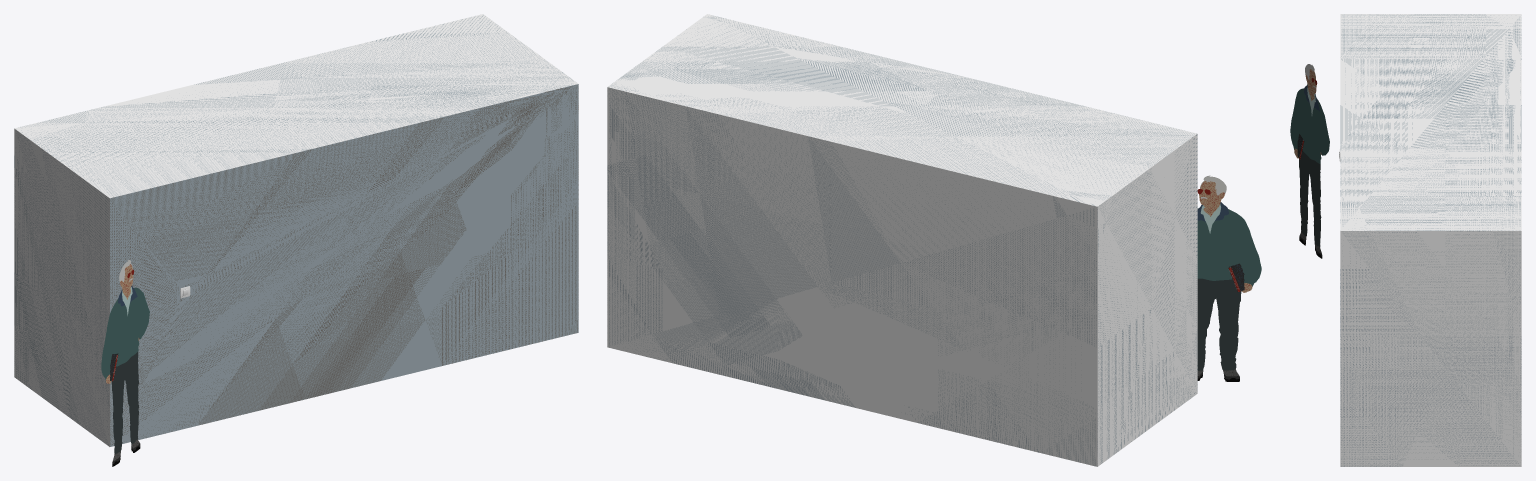
Rendered from switchImport.fbx.
3 renders of one model, left to right at view 1: azimuth 30°, elevation 25°; view 2: azimuth 150°, elevation 25°; view 3: azimuth 270°, elevation 25°, orthographic. The views are drawn at different scales.
Parts seen in each view (by area): view 1: Model, Steve1; view 2: Model, Steve1; view 3: Model, Steve1.
Boxes of the visible parts, x1,y1,x2,y2 form: Model: (14,14,578,446); Steve1: (101,260,149,466); Model: (607,14,1197,466); Steve1: (1197,175,1261,381); Model: (1340,14,1521,466); Steve1: (1290,64,1329,258).
Size of the model in its own units: 4.54 by 2.14 by 1.9.
